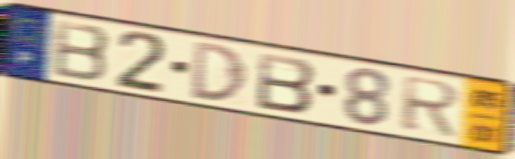2: (113, 29, 169, 98)
8: (341, 66, 393, 129)
B: (255, 50, 319, 116), (51, 17, 113, 84)
D: (190, 39, 250, 105)
R: (399, 73, 464, 139)
